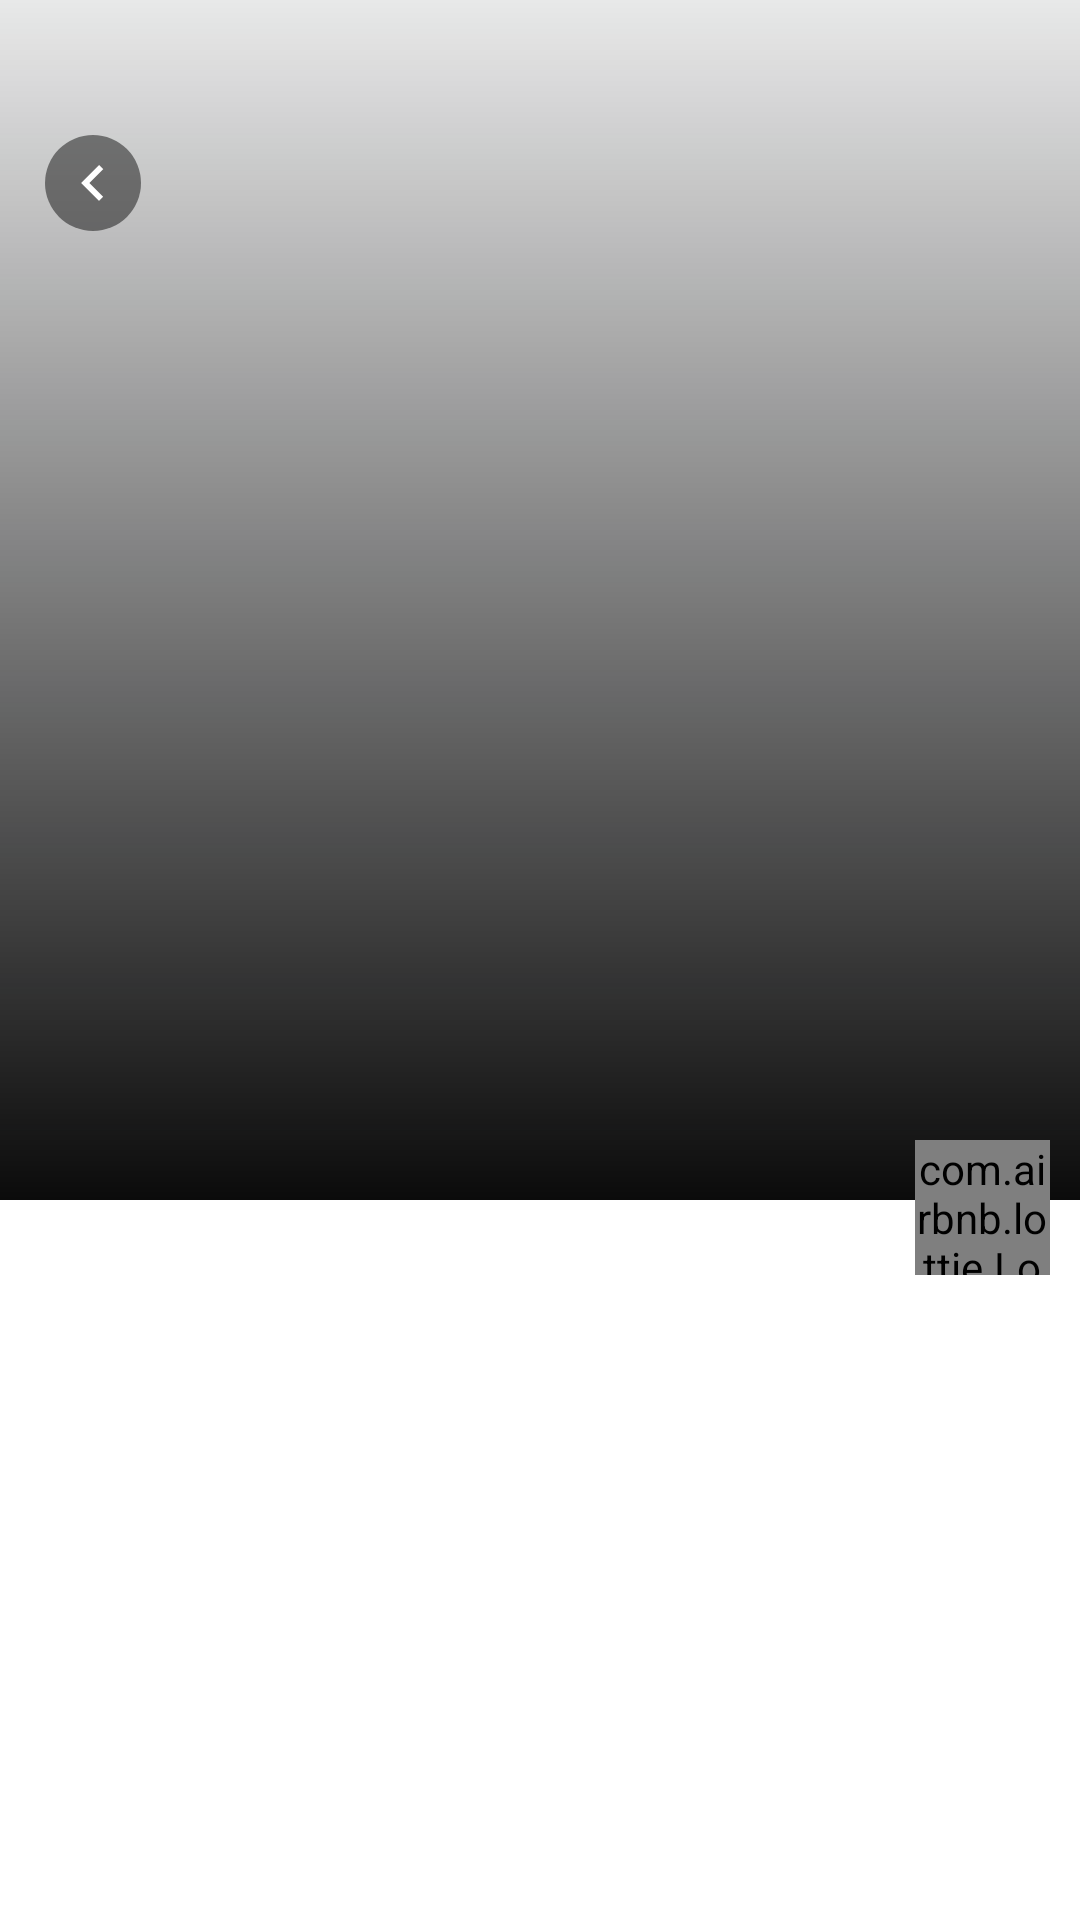

Named icons in this screenshot (1080px x 1920px) and their centers, (x,y):
arrow left: (93,183)
